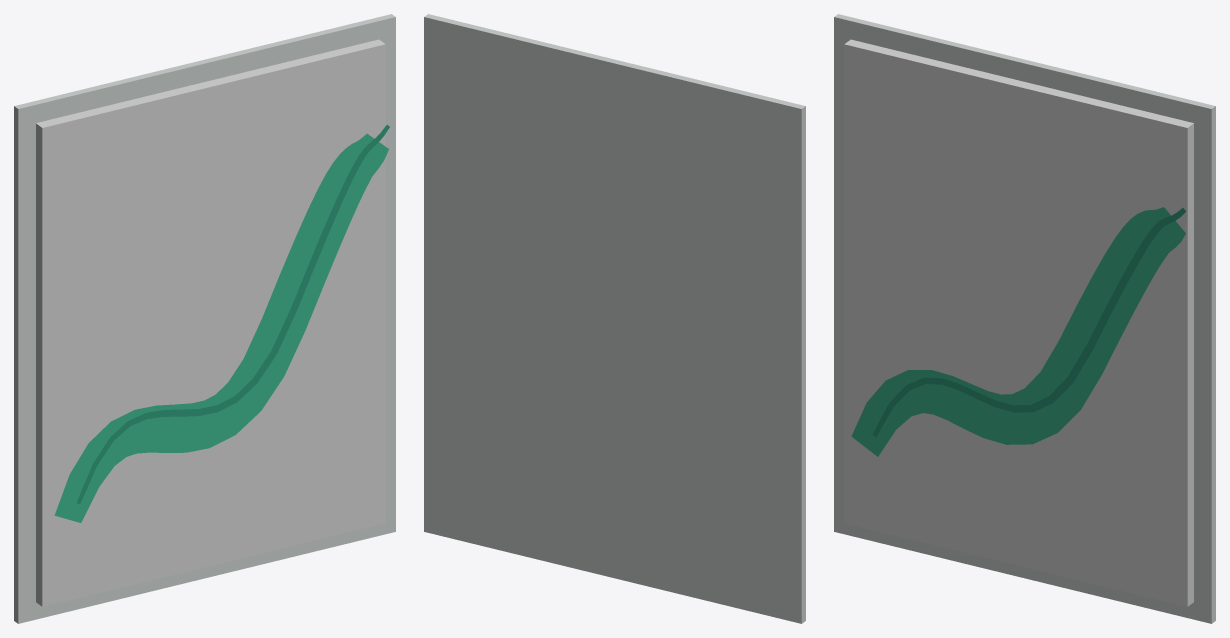
Rendered from scene-01-canvas-light.glb.
3 views of the same model, side by side, from view 1: azimuth 30°, elevation 25°; view 2: azimuth 150°, elevation 25°; view 3: azimuth 330°, elevation 25° (orthographic).
Visible parts, largest first — view 1: canvas, frame, stroke, stroke-trace; view 2: frame; view 3: canvas, frame, stroke, stroke-trace.
Part boxes in pixels (x1,y1,x2,y2): canvas: [36, 39, 385, 606]; frame: [14, 14, 395, 623]; stroke: [54, 133, 388, 522]; stroke-trace: [76, 125, 389, 503]; frame: [424, 14, 805, 623]; canvas: [844, 39, 1193, 606]; frame: [834, 14, 1215, 623]; stroke: [851, 207, 1185, 456]; stroke-trace: [872, 208, 1185, 437].
Size of the model in its own units: 2.64 by 3.44 by 0.17.
